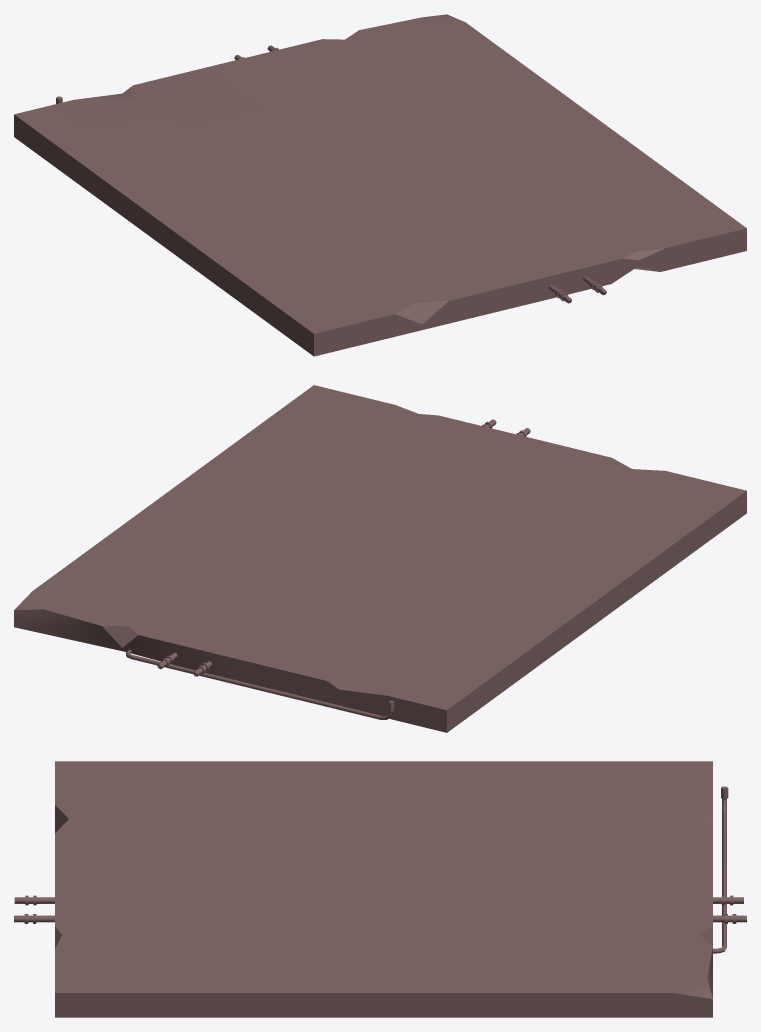
Rendered from concreteFloor1_LP.fbx.
The picture shows the model from 3 angles, top to bottom: view 1: azimuth 30°, elevation 25°; view 2: azimuth 150°, elevation 25°; view 3: azimuth 270°, elevation 25°; orthographic projection. The views are drawn at different scales.
Visible parts, largest first — view 1: cFloor1_LP; view 2: cFloor1_LP, cFloor6_LP; view 3: cFloor1_LP, cFloor6_LP.
Boxes of the visible parts, x1=… form: cFloor1_LP: x1=14, y1=14, x2=746, y2=356; cFloor1_LP: x1=14, y1=385, x2=746, y2=732; cFloor6_LP: x1=126, y1=419, x2=530, y2=719; cFloor1_LP: x1=55, y1=761, x2=712, y2=1017; cFloor6_LP: x1=14, y1=786, x2=746, y2=953.
Bounding box in the file's own units: 800 × 40.41 × 1069.
